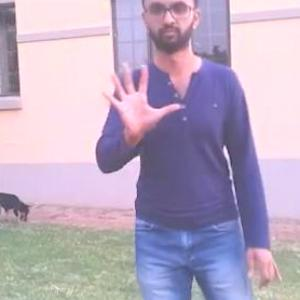follow_hand: (98, 56, 184, 136)
